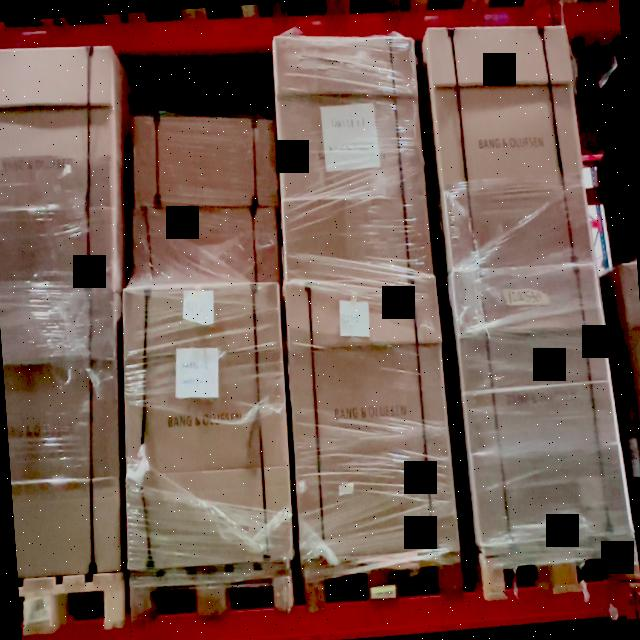box: (117, 278, 294, 565), (284, 272, 456, 550), (456, 261, 626, 541), (272, 31, 432, 281), (431, 20, 586, 269), (0, 280, 129, 578), (0, 45, 129, 288), (121, 104, 282, 217), (129, 197, 281, 291)
